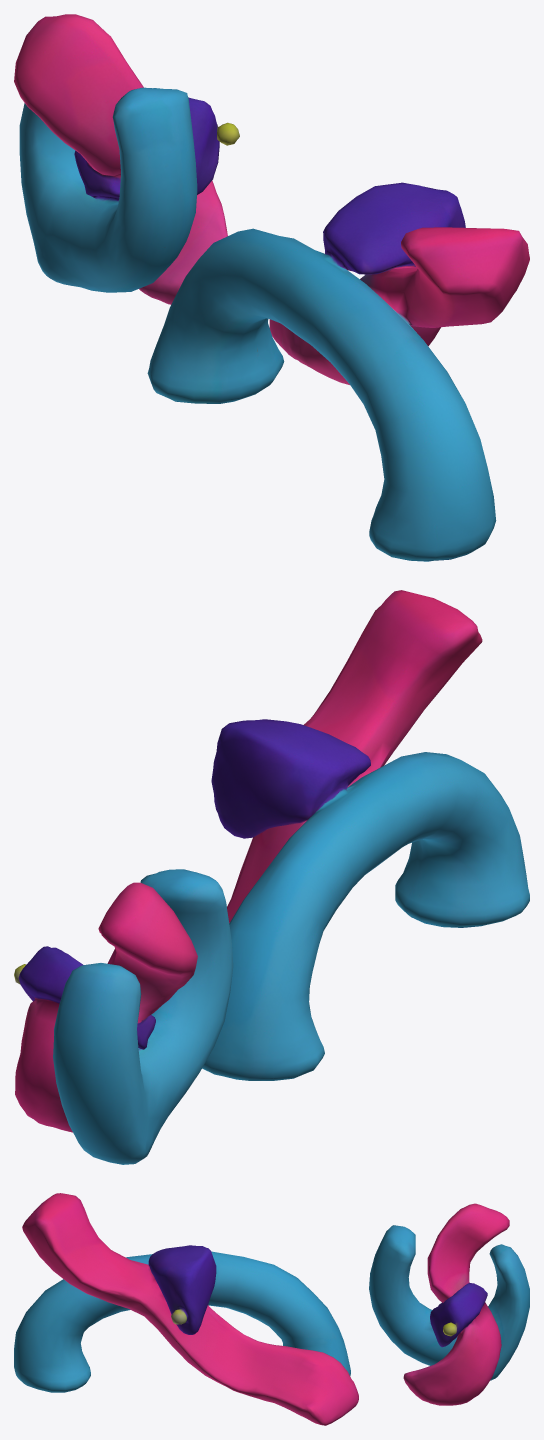
3 views of the same model, one above another, from view 1: azimuth 30°, elevation 25°; view 2: azimuth 150°, elevation 25°; view 3: azimuth 270°, elevation 25° (orthographic). The views are drawn at different scales.
Parts seen in each view (by area): view 1: tripo_node_2c29f4e4-6ab5-43b6-8967-7f1d1ee22a90; view 2: tripo_node_2c29f4e4-6ab5-43b6-8967-7f1d1ee22a90; view 3: tripo_node_2c29f4e4-6ab5-43b6-8967-7f1d1ee22a90.
Part boxes in pixels (box(x1,y1,x2,y2)): tripo_node_2c29f4e4-6ab5-43b6-8967-7f1d1ee22a90: box(14, 14, 529, 561); tripo_node_2c29f4e4-6ab5-43b6-8967-7f1d1ee22a90: box(14, 590, 529, 1164); tripo_node_2c29f4e4-6ab5-43b6-8967-7f1d1ee22a90: box(14, 1193, 529, 1425).
Bounding box in the file's own units: 0.3288 × 0.4012 × 0.998.
1 material, 1 textured.
